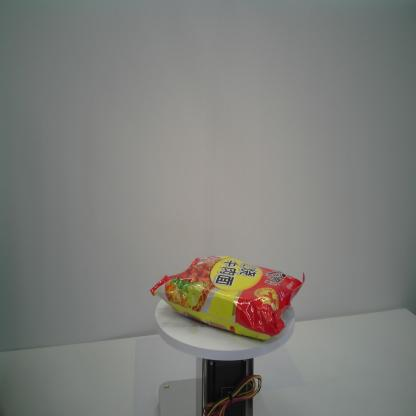Instant Noodles: (148, 255, 306, 341)
